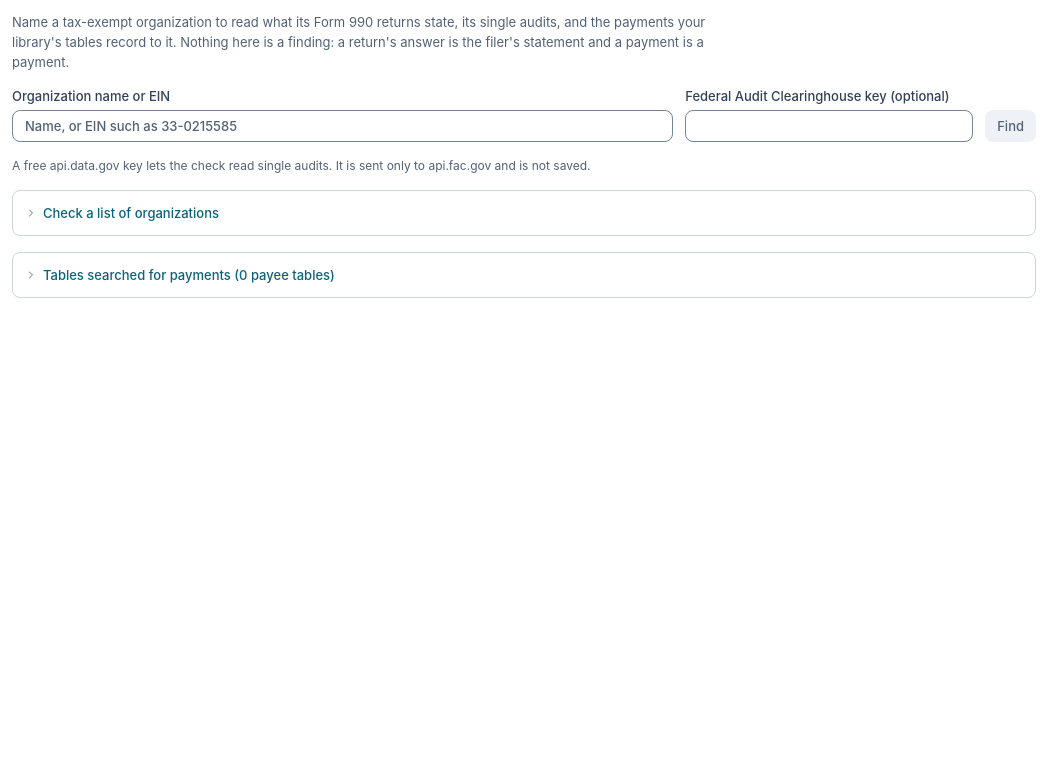
organisation filings › keeps an absent answer, an unread return and a lookup that never ran apart from No, zero and none
Type "111111111" into the field labelled "Organization name or EIN".
click(343, 126); type("111111111")  # box [12, 110, 673, 142]
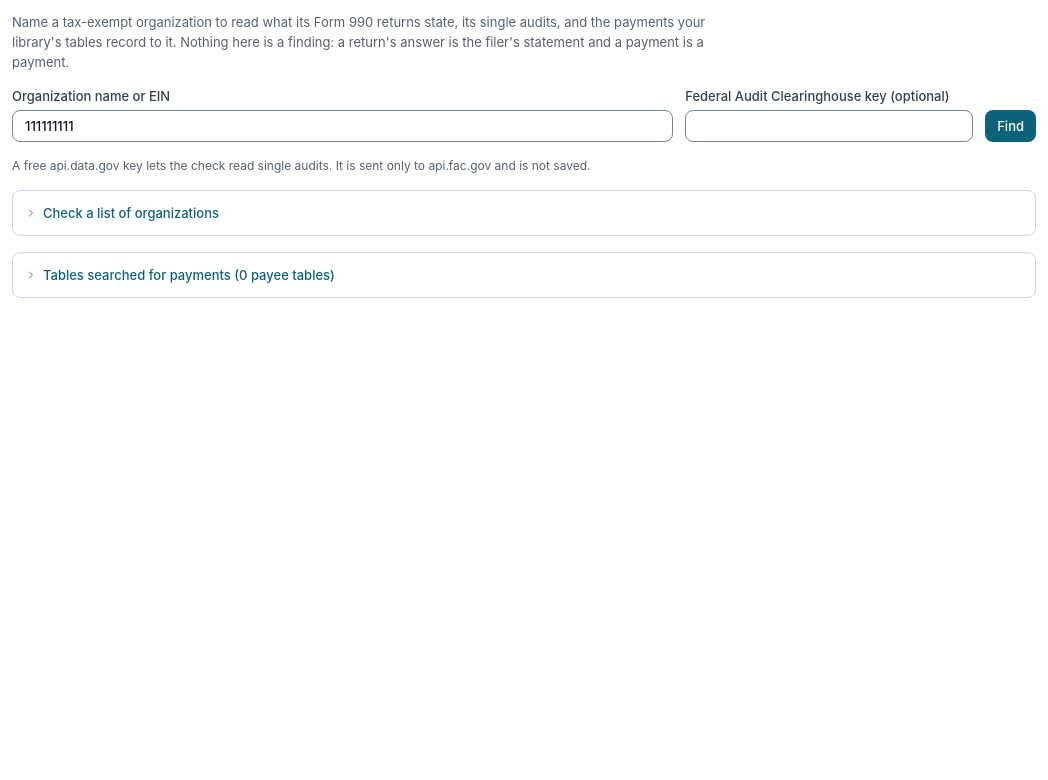
Click the button "Find".
click(1011, 126)  # box [985, 110, 1036, 142]
(page scrolled)
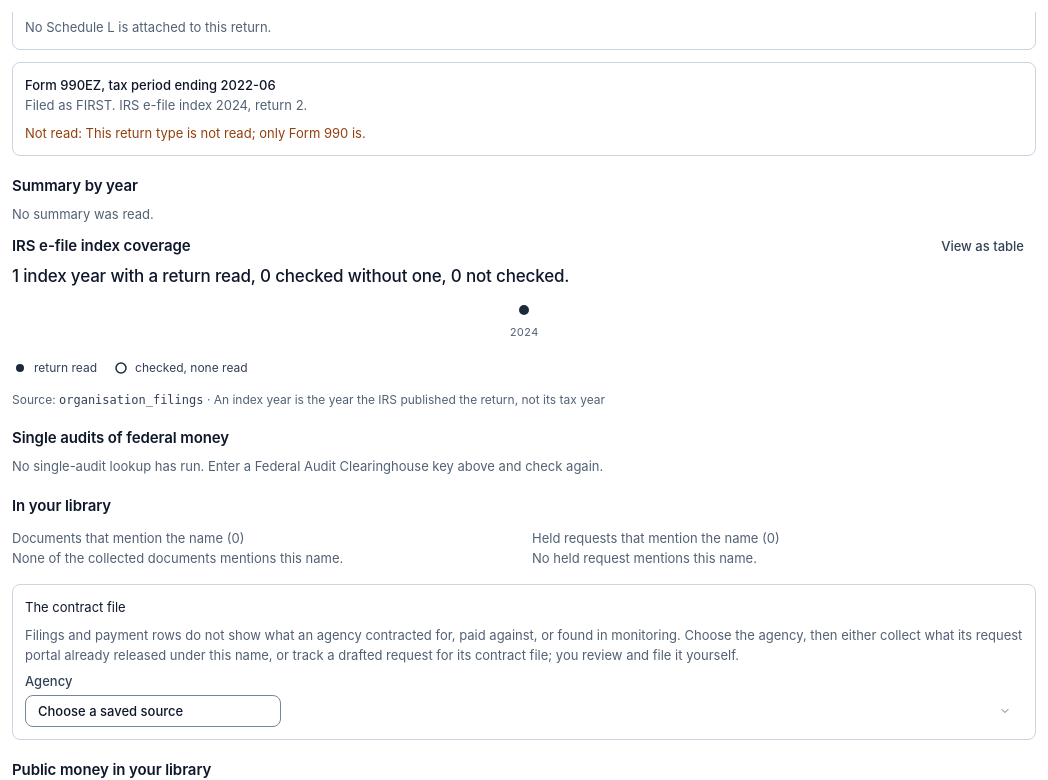
Result: the text "Not read: This return type is not read; only Form 990 is." is shown at [25, 125, 366, 141]
Result: the text "No single-audit lookup has run" is shown at [12, 458, 603, 474]
